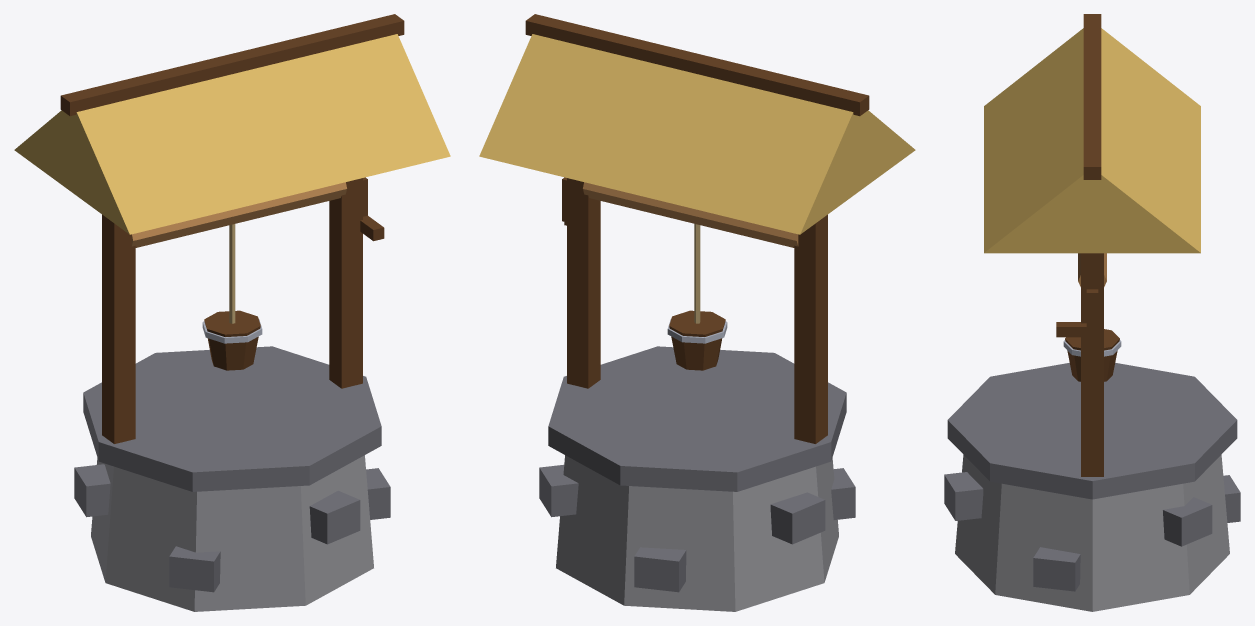
File: Well.fbx
3 views of the same model, side by side, from view 1: azimuth 30°, elevation 25°; view 2: azimuth 150°, elevation 25°; view 3: azimuth 270°, elevation 25° (orthographic). The views are drawn at different scales.
Visible parts, largest first — view 1: Well; view 2: Well; view 3: Well.
Part boxes in pixels (<box>): Well: <box>14,14,450,611</box>; Well: <box>479,14,915,611</box>; Well: <box>944,14,1240,611</box>.
Size of the model in its own units: 2.5 by 3.53 by 2.05.
